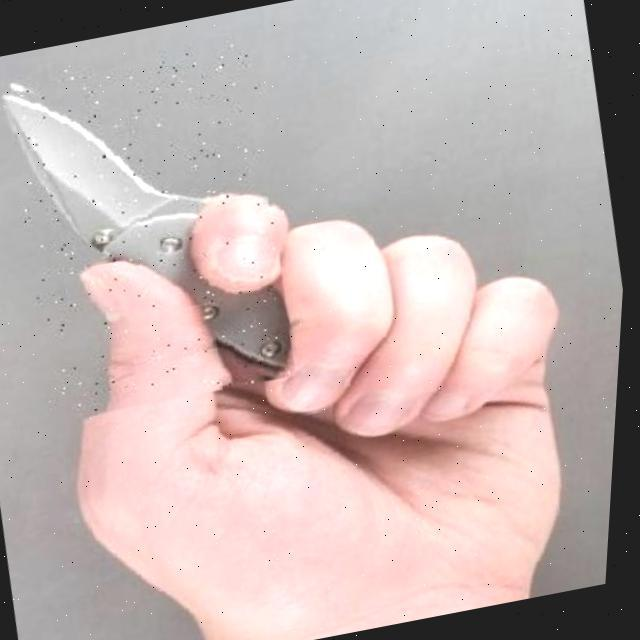knife: (0, 33, 316, 422)
